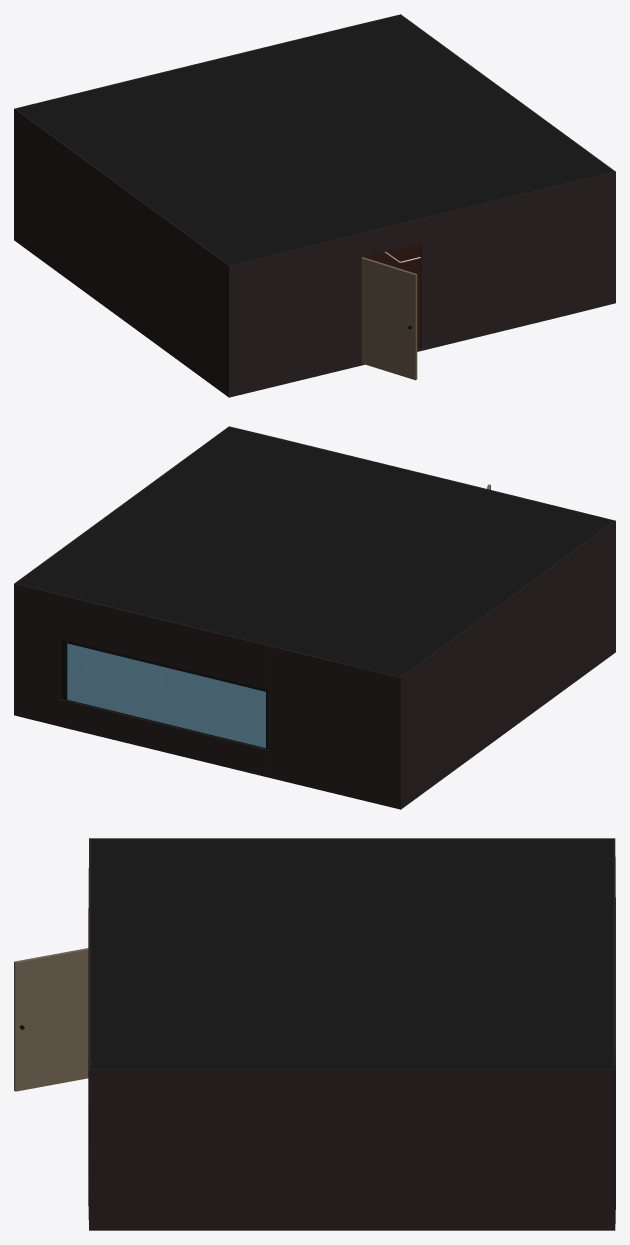
Rendered from level1.fbx.
3 views of the same model, one above another, from view 1: azimuth 30°, elevation 25°; view 2: azimuth 150°, elevation 25°; view 3: azimuth 270°, elevation 25° (orthographic). The views are drawn at different scales.
Visible parts, largest first — view 1: Rectangle001, Object003, Box069, Box063; view 2: Rectangle001, Object003, cam003, Plane005, Box063; view 3: Rectangle001, Object003, Box069.
Part boxes in pixels (x1,y1,x2,y2): Rectangle001: [16, 15, 613, 265]; Object003: [14, 14, 615, 397]; Box069: [361, 257, 417, 380]; Box063: [364, 243, 420, 348]; Rectangle001: [16, 427, 613, 677]; Object003: [14, 426, 615, 809]; cam003: [67, 643, 265, 747]; Plane005: [60, 639, 268, 749]; Box063: [70, 652, 265, 743]; Rectangle001: [90, 839, 613, 1068]; Object003: [88, 838, 615, 1230]; Box069: [14, 948, 88, 1091].
Bounding box in the file's own units: 6.26 × 2.03 × 6.89.
